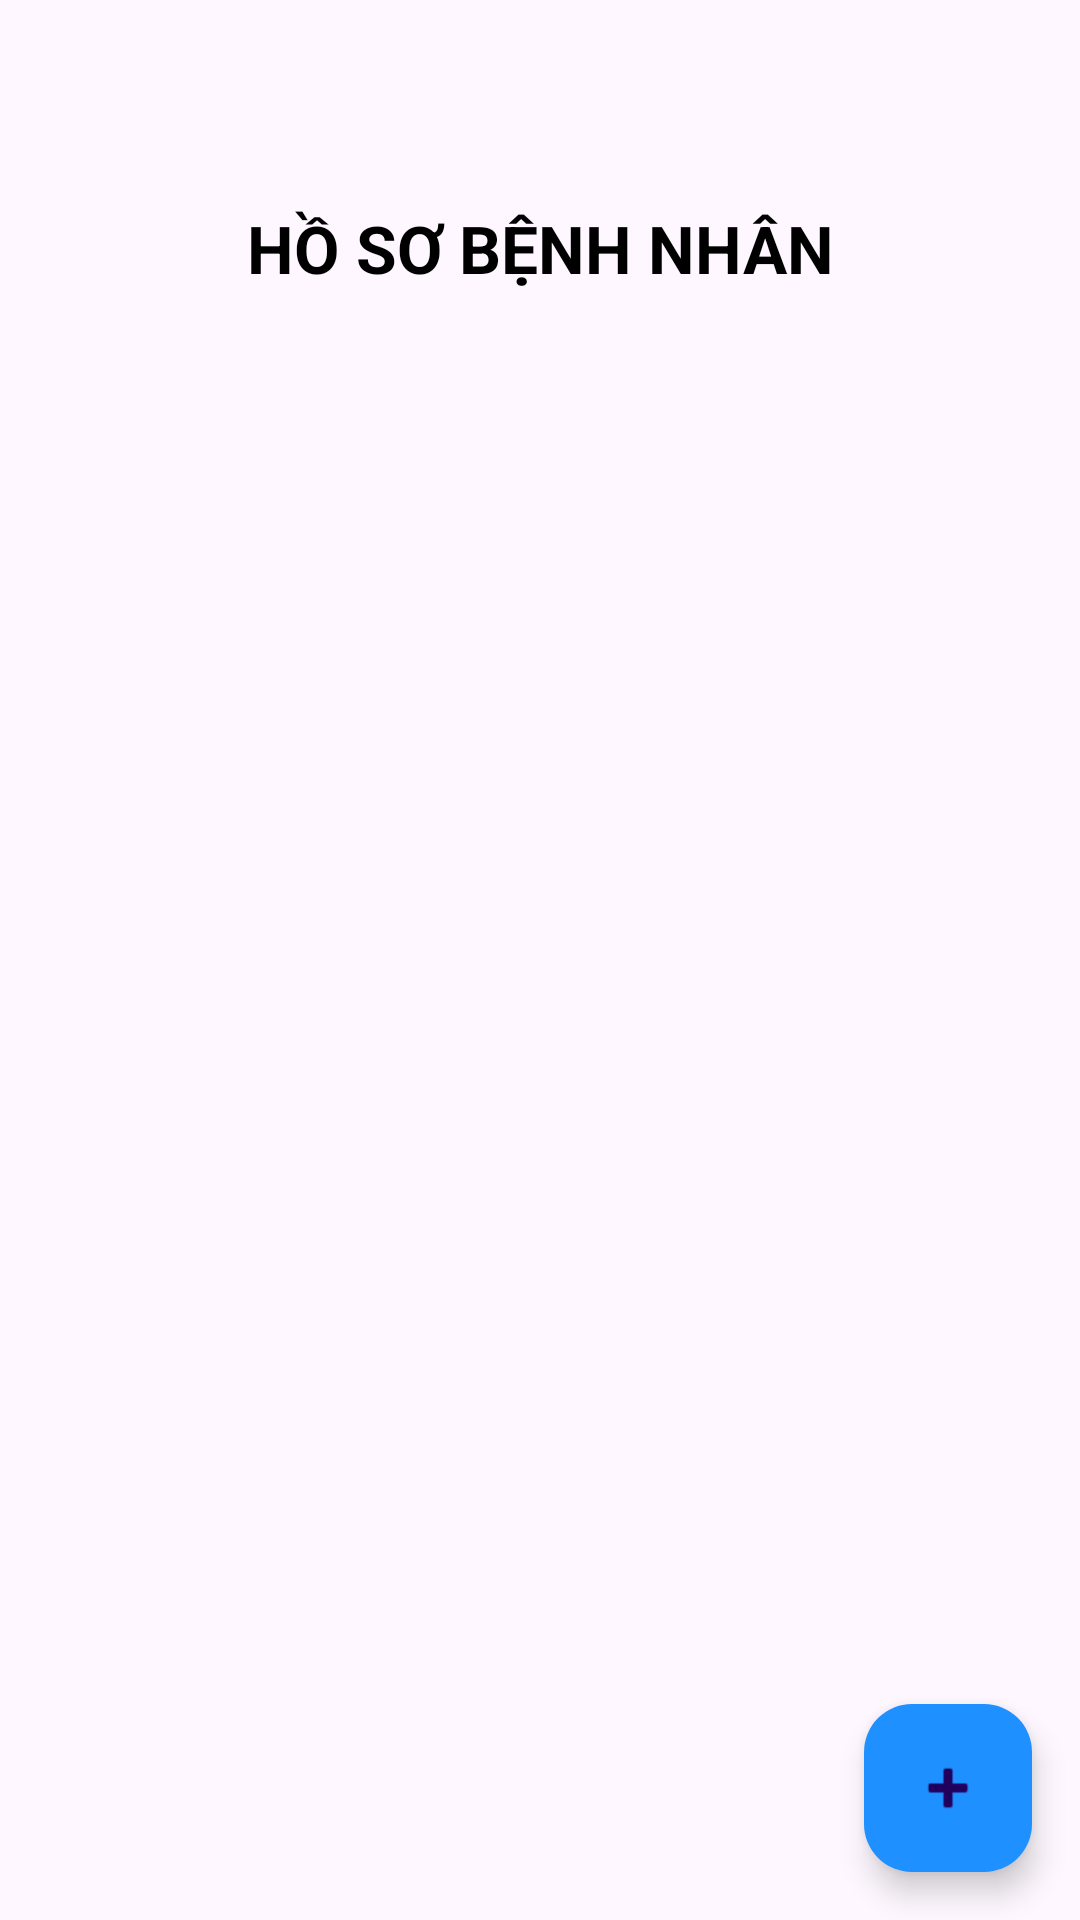

Locate icon controls on the screen. Image size 1080px×1920px, boxes as BBox(x1, y1, x2, y2).
Thêm hồ sơ: BBox(864, 1704, 1032, 1872)
